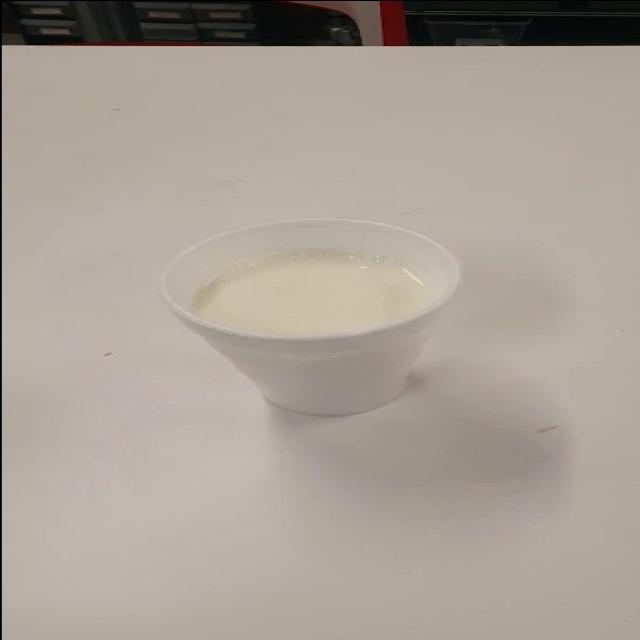Milk: (138, 212, 490, 425)
